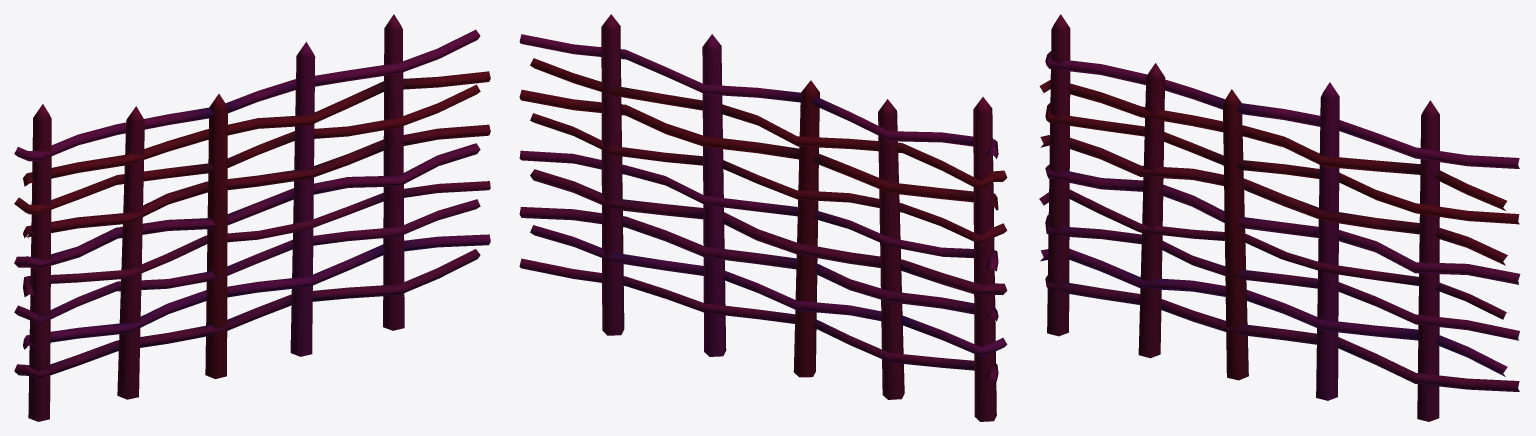
File: veg_fence_wattle.glb
3 renders of one model, left to right at view 1: azimuth 30°, elevation 25°; view 2: azimuth 150°, elevation 25°; view 3: azimuth 330°, elevation 25°, orthographic. The views are drawn at different scales.
Parts seen in each view (by area): view 1: veg_fence_wattle_LOD0; view 2: veg_fence_wattle_LOD0; view 3: veg_fence_wattle_LOD0.
Part boxes in pixels (left/top/right/bottom): veg_fence_wattle_LOD0: left=14, top=14, right=490, bottom=421; veg_fence_wattle_LOD0: left=519, top=14, right=1007, bottom=421; veg_fence_wattle_LOD0: left=1039, top=14, right=1520, bottom=421.
Size of what is drawn, in the model's own units: 1.03 by 0.6649 by 0.0743.
